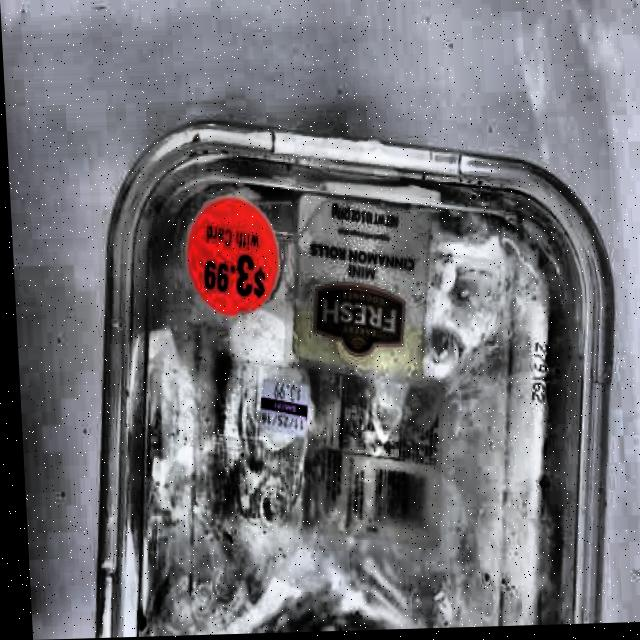plastic: (60, 104, 637, 638)
